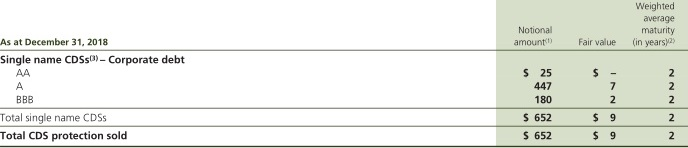column: (1, 1, 186, 148), (631, 1, 676, 148), (577, 1, 618, 148), (514, 1, 552, 148)
row: (1, 54, 688, 66), (1, 112, 688, 124), (1, 36, 687, 48), (1, 67, 687, 79), (1, 130, 688, 141), (1, 94, 687, 105), (1, 14, 688, 24), (1, 81, 688, 91), (1, 25, 687, 35), (6, 1, 687, 11)
